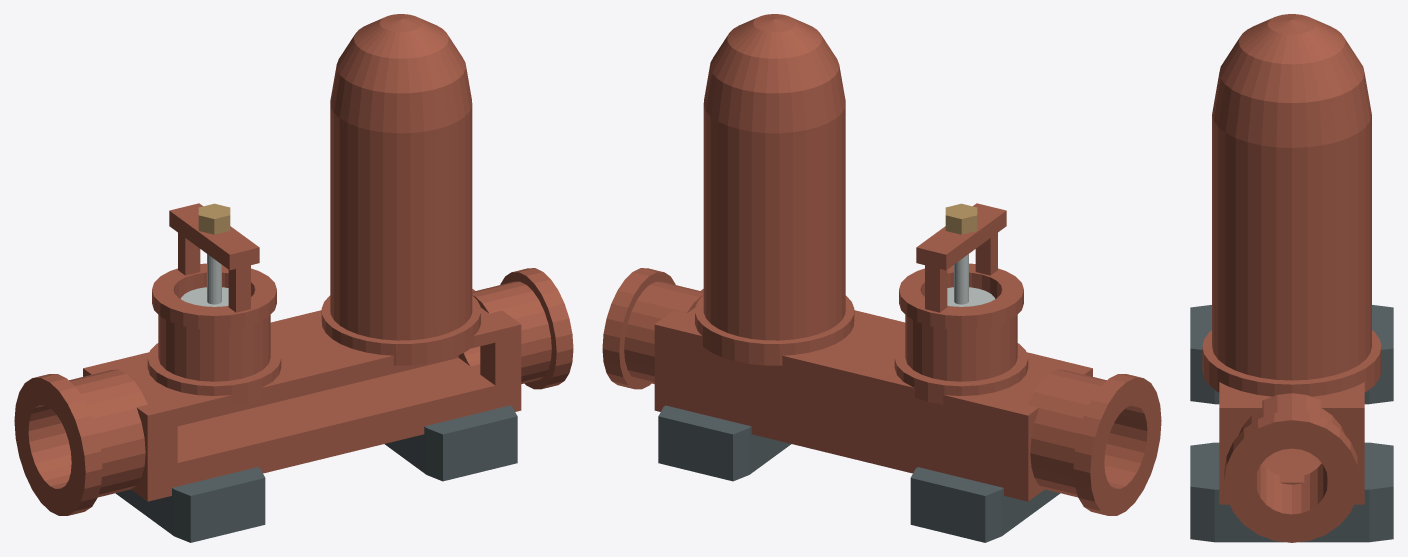
The picture shows the model from 3 angles, left to right: view 1: azimuth 30°, elevation 25°; view 2: azimuth 150°, elevation 25°; view 3: azimuth 270°, elevation 25°; orthographic projection. The views are drawn at different scales.
Visible parts, largest first — view 1: WholeTallHollowDomedVessel, WholeCutawaySharedHorizontalChannel, WholeLeftOpenInletFlange, WholeShortOpenValveChamber, WholeRightOpenDeliveryFlange, WholeLeftGroundFoot, WholeRightGroundFoot, WholeValveTopBridge, WholeRaisedDiskAndStem, WholeValveGuidePostFront, WholeStemStopCap, WholeValveGuidePostRear; view 2: WholeTallHollowDomedVessel, WholeCutawaySharedHorizontalChannel, WholeLeftOpenInletFlange, WholeShortOpenValveChamber, WholeRightOpenDeliveryFlange, WholeLeftGroundFoot, WholeRightGroundFoot, WholeValveTopBridge, WholeRaisedDiskAndStem, WholeValveGuidePostRear, WholeStemStopCap, WholeValveGuidePostFront; view 3: WholeTallHollowDomedVessel, WholeRightOpenDeliveryFlange, WholeRightGroundFoot, WholeCutawaySharedHorizontalChannel, WholeLeftGroundFoot.
Boxes of the visible parts, left/top/right/bottom form: WholeTallHollowDomedVessel: left=321, top=14, right=480, bottom=365; WholeCutawaySharedHorizontalChannel: left=83, top=289, right=521, bottom=501; WholeLeftOpenInletFlange: left=14, top=369, right=147, bottom=515; WholeShortOpenValveChamber: left=147, top=263, right=281, bottom=404; WholeRightOpenDeliveryFlange: left=458, top=268, right=573, bottom=389; WholeLeftGroundFoot: left=115, top=467, right=265, bottom=542; WholeRightGroundFoot: left=384, top=405, right=517, bottom=481; WholeValveTopBridge: left=169, top=203, right=259, bottom=270; WholeRaisedDiskAndStem: left=181, top=254, right=228, bottom=306; WholeValveGuidePostFront: left=228, top=265, right=250, bottom=312; WholeStemStopCap: left=198, top=203, right=230, bottom=234; WholeValveGuidePostRear: left=178, top=233, right=200, bottom=275; WholeTallHollowDomedVessel: left=695, top=14, right=854, bottom=365; WholeCutawaySharedHorizontalChannel: left=654, top=289, right=1092, bottom=501; WholeLeftOpenInletFlange: left=1028, top=369, right=1161, bottom=515; WholeShortOpenValveChamber: left=894, top=263, right=1028, bottom=404; WholeRightOpenDeliveryFlange: left=602, top=268, right=703, bottom=389; WholeLeftGroundFoot: left=910, top=467, right=1060, bottom=542; WholeRightGroundFoot: left=658, top=405, right=791, bottom=481; WholeValveTopBridge: left=916, top=203, right=1006, bottom=270; WholeRaisedDiskAndStem: left=947, top=254, right=994, bottom=306; WholeValveGuidePostRear: left=925, top=265, right=947, bottom=312; WholeStemStopCap: left=945, top=203, right=977, bottom=234; WholeValveGuidePostFront: left=975, top=233, right=997, bottom=275; WholeTallHollowDomedVessel: left=1202, top=14, right=1381, bottom=396; WholeRightOpenDeliveryFlange: left=1224, top=393, right=1359, bottom=542; WholeRightGroundFoot: left=1190, top=442, right=1393, bottom=542; WholeCutawaySharedHorizontalChannel: left=1219, top=382, right=1364, bottom=504; WholeLeftGroundFoot: left=1190, top=305, right=1393, bottom=404.
Bounding box in the file's own units: 2.64 × 2.19 × 0.84.
